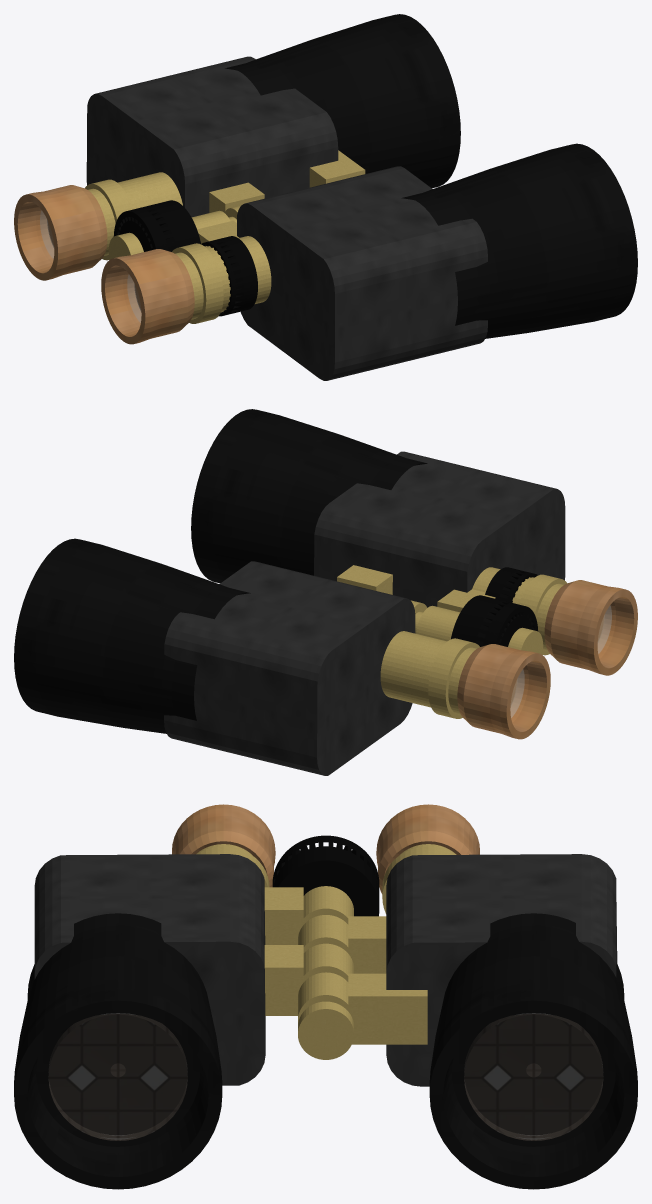
File: Others_Binocular__0000.glb
3 views of the same model, one above another, from view 1: azimuth 30°, elevation 25°; view 2: azimuth 150°, elevation 25°; view 3: azimuth 270°, elevation 25° (orthographic). The views are drawn at different scales.
Parts seen in each view (by area): view 1: right_barrel::prism_housing, right_barrel::objective_tube, left_barrel::prism_housing, left_barrel::objective_tube, left_barrel::eyecup, right_barrel::eyecup, focus_wheel::focus_wheel_knurl, diopter_ring::diopter_knurl, right_barrel::eyepiece_tube, left_barrel::eyepiece_tube, right_barrel::eyepiece_ring, left_barrel::front_hinge_arm (+4 smaller); view 2: left_barrel::prism_housing, left_barrel::objective_tube, right_barrel::prism_housing, right_barrel::objective_tube, right_barrel::eyecup, left_barrel::eyecup, left_barrel::eyepiece_tube, focus_wheel::focus_wheel_knurl, left_barrel::eyepiece_ring, right_barrel::eyepiece_tube, right_barrel::rear_hinge_sleeve, right_barrel::front_hinge_arm (+4 smaller); view 3: right_barrel::objective_tube, left_barrel::objective_tube, right_barrel::prism_housing, left_barrel::prism_housing, left_barrel::objective_lens, right_barrel::objective_lens, focus_wheel::focus_wheel_knurl, left_barrel::front_hinge_arm, left_barrel::eyecup, right_barrel::eyecup, hinge_bridge::front_hinge_cap, right_barrel::front_hinge_arm (+8 smaller).
Boxes of the visible parts, x1=… form: right_barrel::prism_housing: x1=237, y1=166, x2=487, y2=380; right_barrel::objective_tube: x1=401, y1=143, x2=637, y2=338; left_barrel::prism_housing: x1=86, y1=56, x2=338, y2=217; left_barrel::objective_tube: x1=225, y1=14, x2=460, y2=188; left_barrel::eyecup: x1=14, y1=185, x2=107, y2=280; right_barrel::eyecup: x1=101, y1=249, x2=194, y2=344; focus_wheel::focus_wheel_knurl: x1=113, y1=200, x2=200, y2=251; diopter_ring::diopter_knurl: x1=201, y1=236, x2=257, y2=316; right_barrel::eyepiece_tube: x1=175, y1=236, x2=271, y2=319; left_barrel::eyepiece_tube: x1=88, y1=172, x2=182, y2=255; right_barrel::eyepiece_ring: x1=172, y1=243, x2=223, y2=323; left_barrel::front_hinge_arm: x1=309, y1=150, x2=365, y2=187; left_barrel::prism_housing: x1=164, y1=561, x2=415, y2=775; left_barrel::objective_tube: x1=14, y1=538, x2=250, y2=733; right_barrel::prism_housing: x1=314, y1=451, x2=565, y2=607; right_barrel::objective_tube: x1=191, y1=409, x2=427, y2=583; right_barrel::eyecup: x1=544, y1=580, x2=637, y2=675; left_barrel::eyecup: x1=457, y1=644, x2=550, y2=739; left_barrel::eyepiece_tube: x1=380, y1=631, x2=476, y2=714; focus_wheel::focus_wheel_knurl: x1=451, y1=595, x2=538, y2=646; left_barrel::eyepiece_ring: x1=428, y1=638, x2=479, y2=718; right_barrel::eyepiece_tube: x1=472, y1=567, x2=563, y2=650; right_barrel::rear_hinge_sleeve: x1=416, y1=605, x2=460, y2=641; right_barrel::front_hinge_arm: x1=337, y1=565, x2=392, y2=594; right_barrel::objective_tube: x1=14, y1=913, x2=222, y2=1189; left_barrel::objective_tube: x1=429, y1=913, x2=637, y2=1189; right_barrel::prism_housing: x1=34, y1=854, x2=265, y2=1085; left_barrel::prism_housing: x1=386, y1=854, x2=617, y2=1086; left_barrel::objective_lens: x1=464, y1=1013, x2=602, y2=1140; right_barrel::objective_lens: x1=49, y1=1013, x2=187, y2=1140; focus_wheel::focus_wheel_knurl: x1=272, y1=835, x2=379, y2=916; left_barrel::front_hinge_arm: x1=348, y1=973, x2=427, y2=1044; left_barrel::eyecup: x1=376, y1=804, x2=479, y2=893; right_barrel::eyecup: x1=172, y1=804, x2=275, y2=887; hinge_bridge::front_hinge_cap: x1=298, y1=1001, x2=353, y2=1059; right_barrel::front_hinge_arm: x1=264, y1=945, x2=303, y2=1015.
Bounding box in the file's own units: 0.1946 × 0.0703 × 0.2106.
7 materials, 5 textured.
